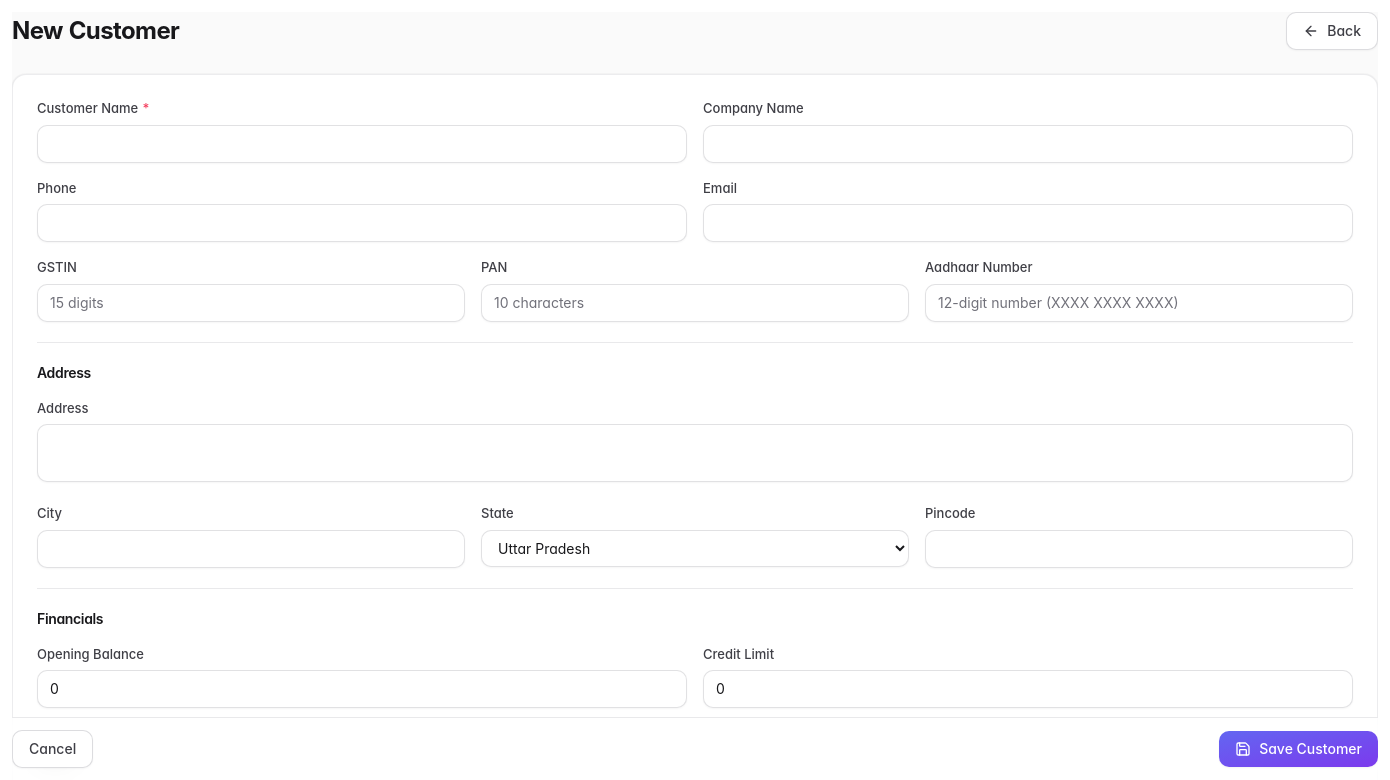
Test: CustomerCreatePage with Aadhaar › masks Aadhaar input with spaces as 4-4-4 format as user types
Type "123456789012" into the field labelled "Aadhaar Number" at (1139, 302), box [925,284,1353,322]
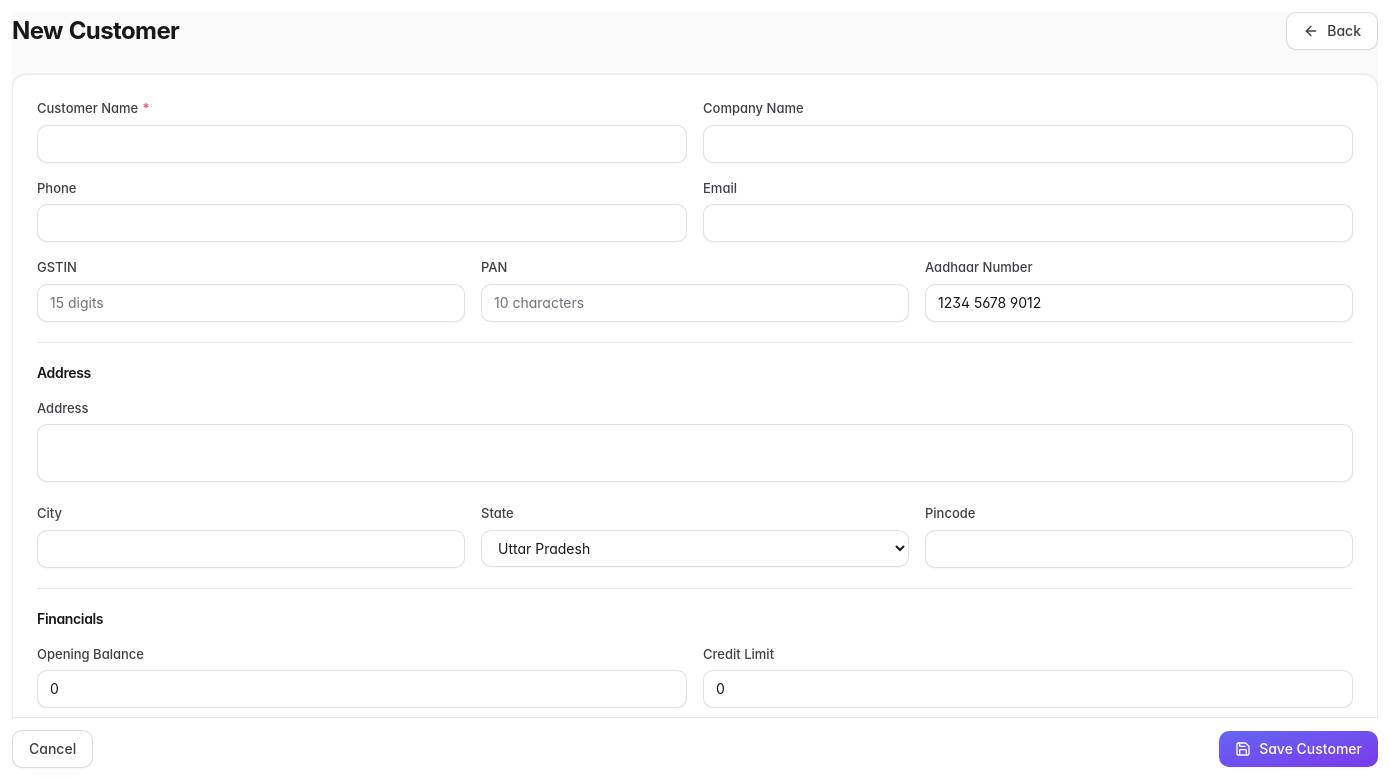
Expected: the field labelled "Aadhaar Number" holds "1234 5678 9012", [925,284,1353,322]
